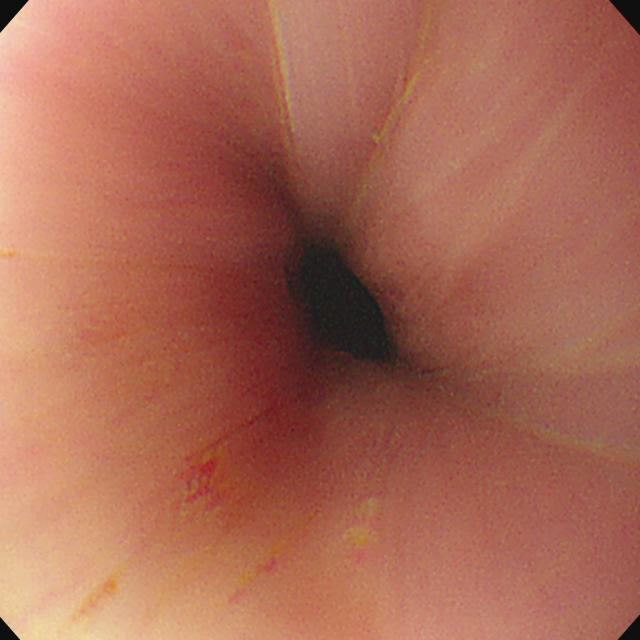E: (301, 248, 388, 363)
